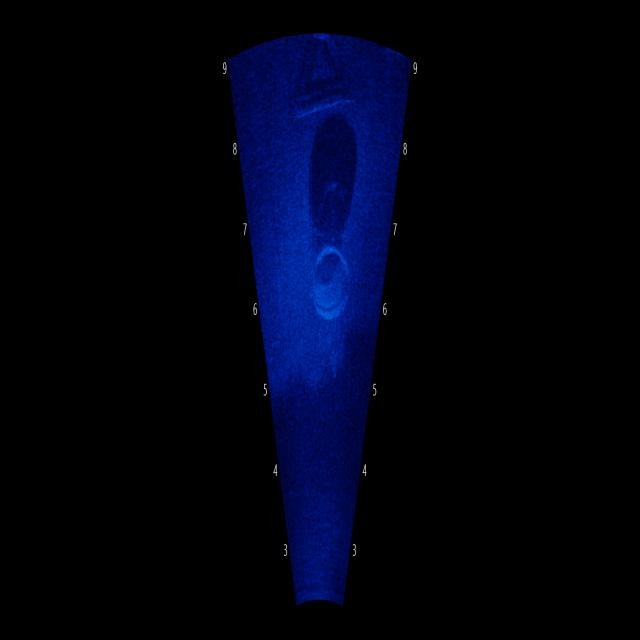circle: (304, 218, 366, 349)
